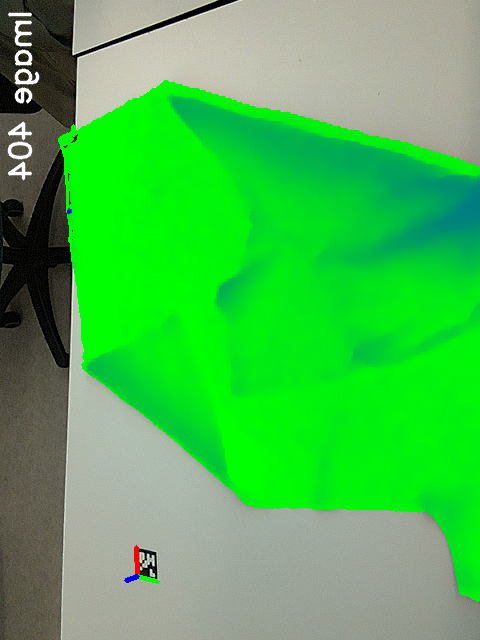V: (217, 351, 278, 403), (152, 300, 197, 356)
